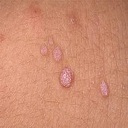Wart: (59, 69, 77, 88)
